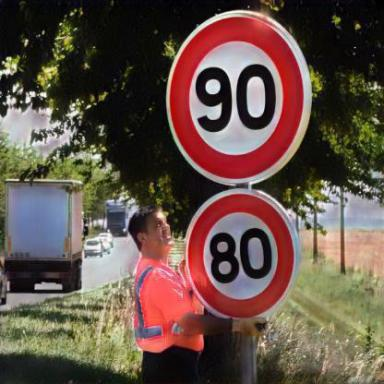Speed_limit_90: (172, 21, 306, 175)
